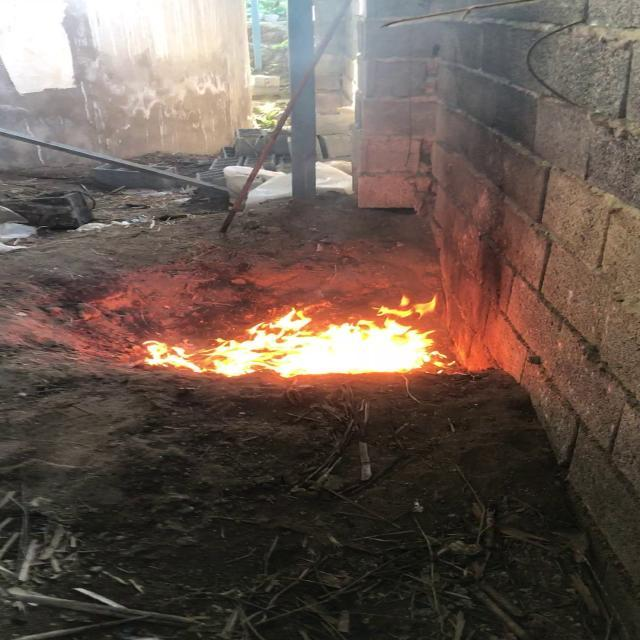Fire: (136, 275, 474, 382)
